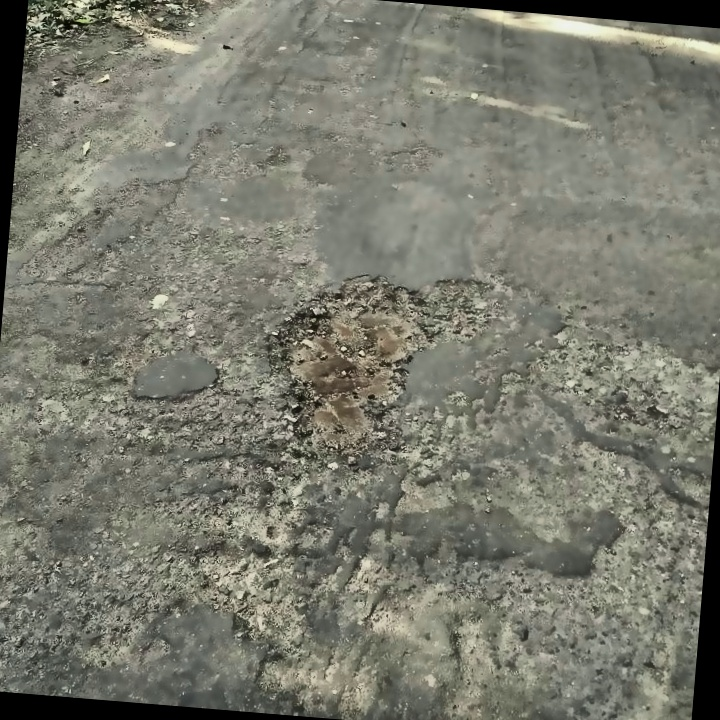pothole: (256, 257, 501, 474)
